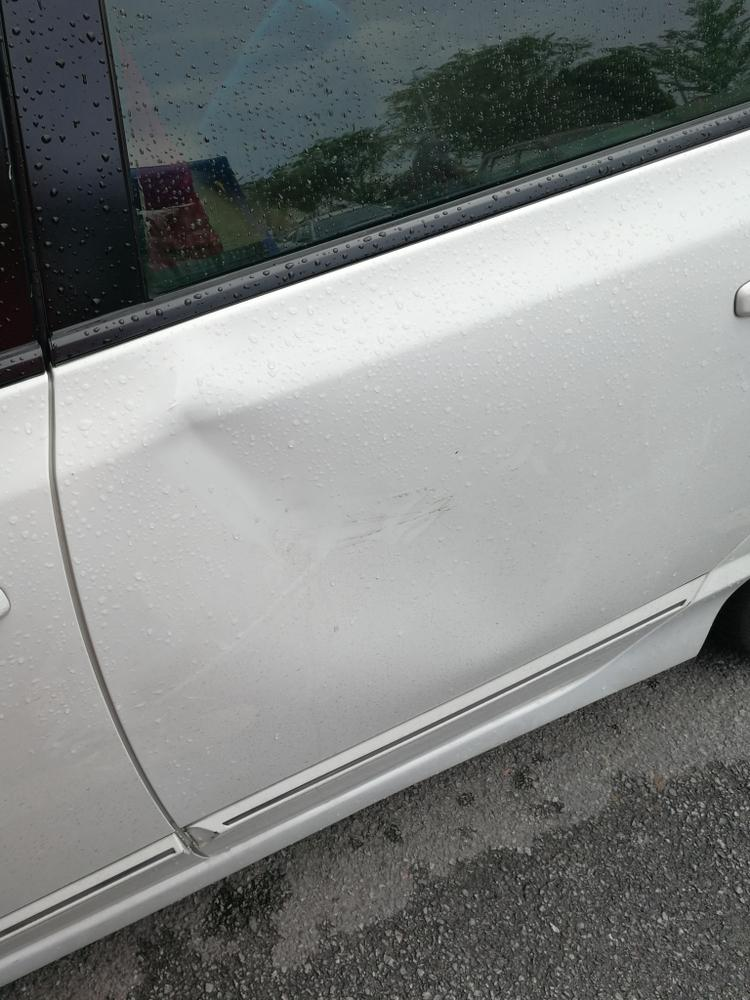dent: (163, 334, 558, 694)
